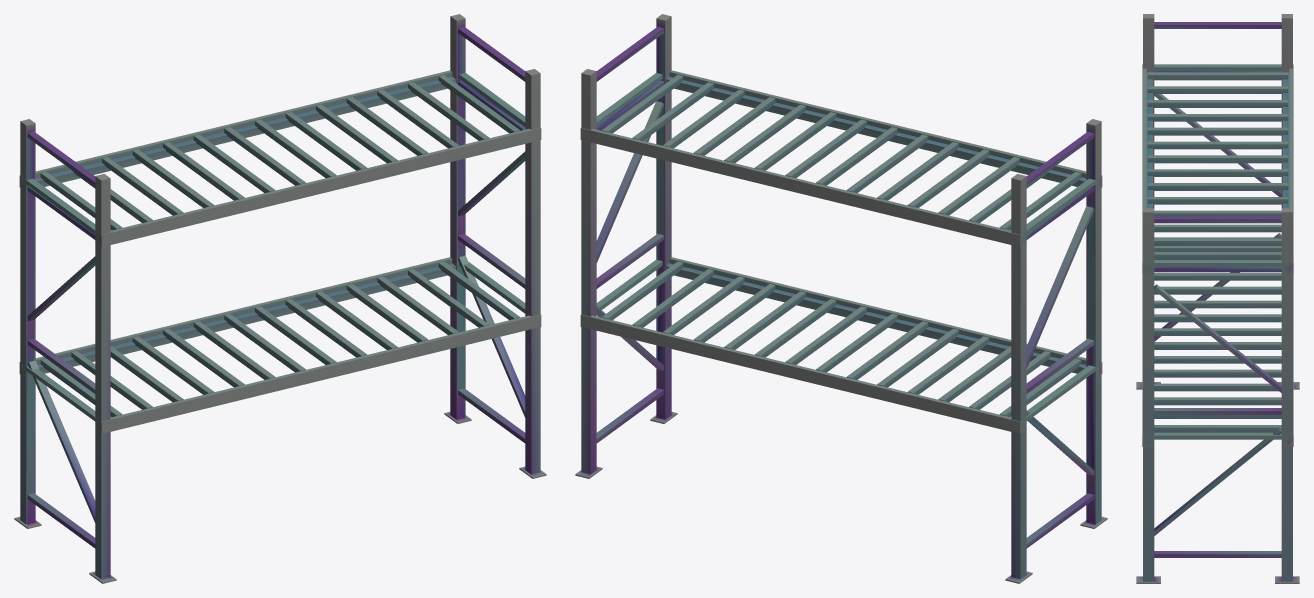
The model's file is simready-rack_h3m_s01.glb.
3 renders of one model, left to right at view 1: azimuth 30°, elevation 25°; view 2: azimuth 150°, elevation 25°; view 3: azimuth 270°, elevation 25°, orthographic. The views are drawn at different scales.
Parts seen in each view (by area): view 1: side_rail.002, side_rail.001, upright.002, upright.001; view 2: side_rail.002, side_rail.001, upright.002, upright.001; view 3: side_rail.002, upright.001, side_rail.001, upright.002.
Boxes of the visible parts, x1=… form: side_rail.002: x1=19, y1=70, x2=541, y2=247; side_rail.001: x1=19, y1=257, x2=541, y2=433; upright.002: x1=14, y1=119, x2=116, y2=583; upright.001: x1=444, y1=14, x2=546, y2=478; side_rail.002: x1=580, y1=70, x2=1102, y2=247; side_rail.001: x1=580, y1=257, x2=1102, y2=433; upright.002: x1=1005, y1=119, x2=1107, y2=583; upright.001: x1=575, y1=14, x2=677, y2=478; side_rail.002: x1=1142, y1=64, x2=1293, y2=273; upright.001: x1=1136, y1=208, x2=1299, y2=583; side_rail.001: x1=1142, y1=237, x2=1293, y2=446; upright.002: x1=1136, y1=14, x2=1299, y2=389.
Bounding box in the file's own units: 3.48 × 3 × 1.2.
